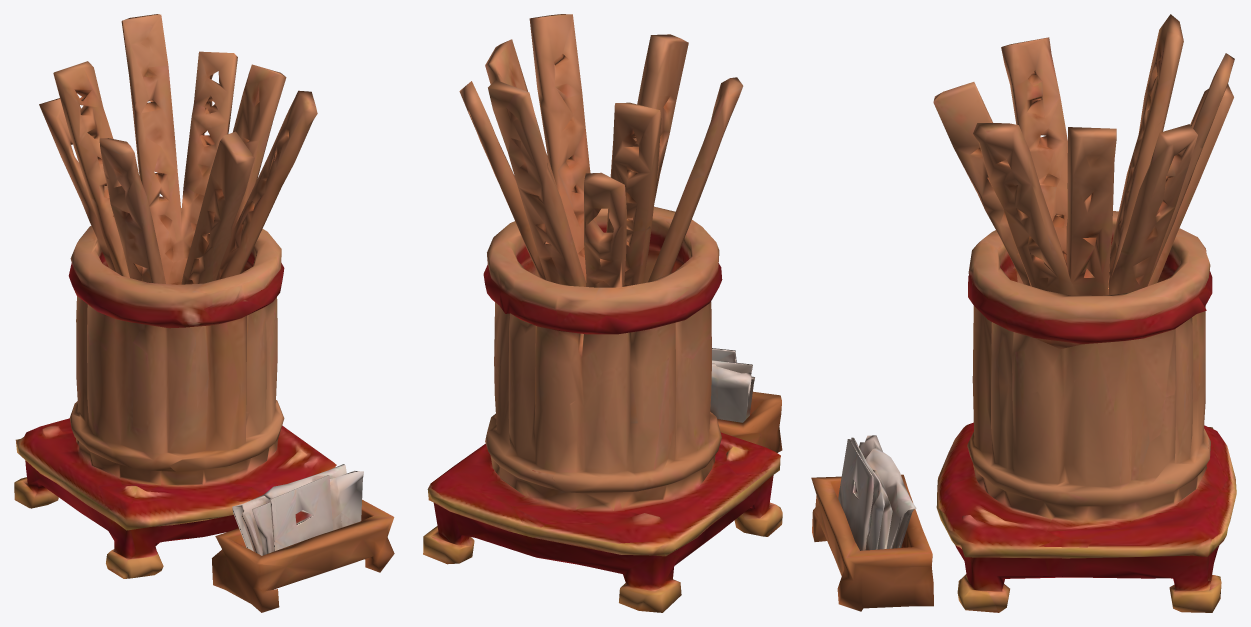
The model's file is siamsi.glb.
3 renders of one model, left to right at view 1: azimuth 30°, elevation 25°; view 2: azimuth 150°, elevation 25°; view 3: azimuth 270°, elevation 25°, orthographic. The views are drawn at different scales.
Parts seen in each view (by area): view 1: tripo_node_e366df08-2118-4f48-b29d-acb78b417f6c; view 2: tripo_node_e366df08-2118-4f48-b29d-acb78b417f6c; view 3: tripo_node_e366df08-2118-4f48-b29d-acb78b417f6c.
Part boxes in pixels (x1,y1,x2,y2): tripo_node_e366df08-2118-4f48-b29d-acb78b417f6c: [14, 14, 394, 612]; tripo_node_e366df08-2118-4f48-b29d-acb78b417f6c: [423, 14, 782, 612]; tripo_node_e366df08-2118-4f48-b29d-acb78b417f6c: [811, 14, 1236, 612].
Bounding box in the file's own units: 0.5207 × 1 × 0.7641.
1 material, 1 textured.
